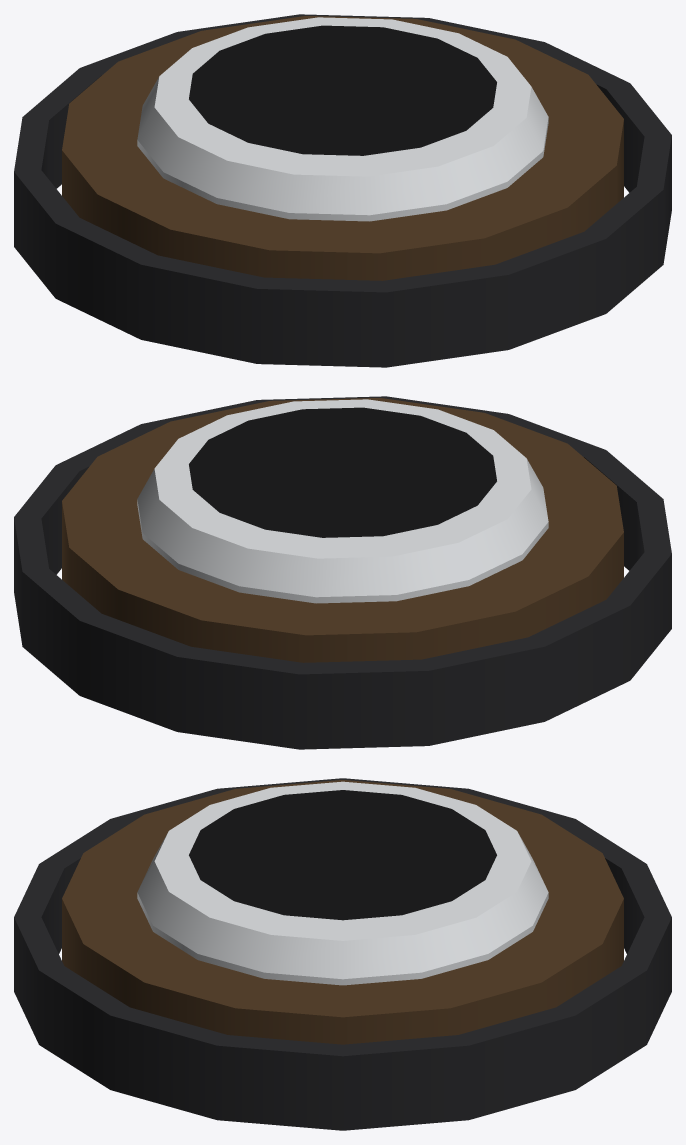
Rendered from rd1_thruster_fr.obj.
The picture shows the model from 3 angles, top to bottom: view 1: azimuth 30°, elevation 25°; view 2: azimuth 150°, elevation 25°; view 3: azimuth 270°, elevation 25°; orthographic projection.
Parts seen in each view (by area): view 1: rd1_thruster_fr; view 2: rd1_thruster_fr; view 3: rd1_thruster_fr.
Part boxes in pixels (x1,y1,x2,y2): rd1_thruster_fr: (14, 14, 671, 367); rd1_thruster_fr: (14, 396, 671, 749); rd1_thruster_fr: (14, 778, 671, 1130).
Bounding box in the file's own units: 0.192 × 0.064 × 0.192.
